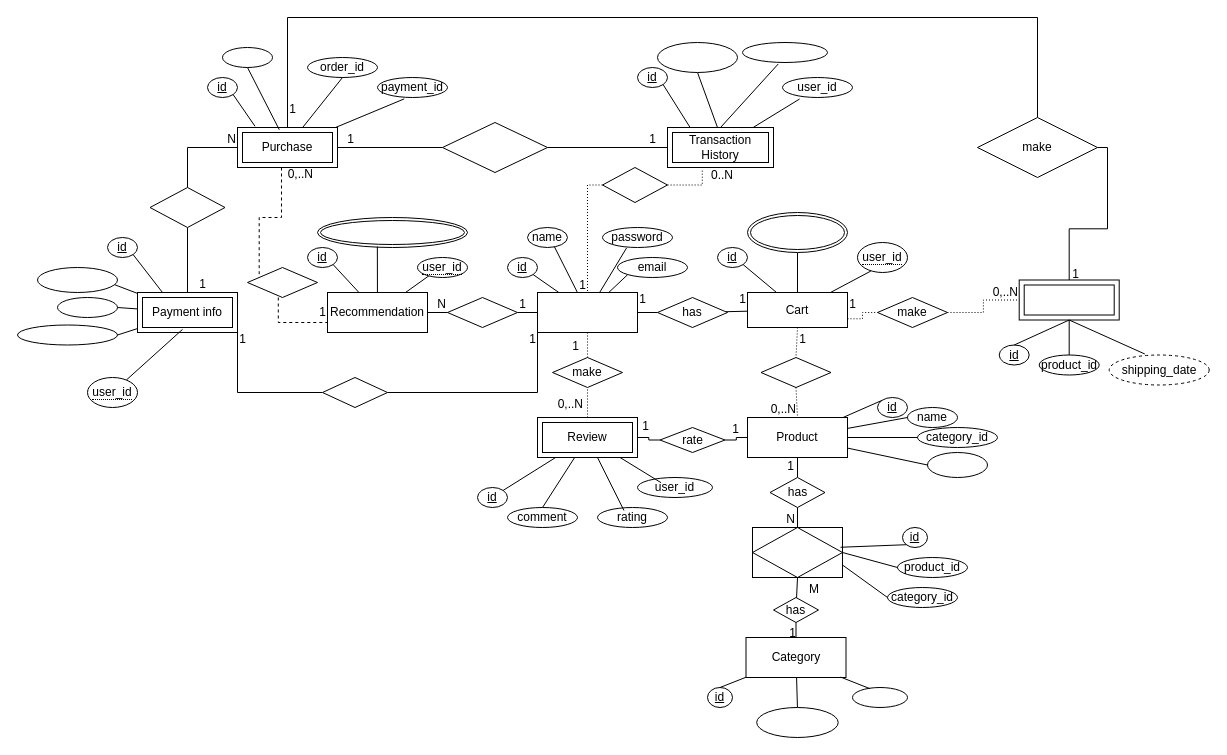
This 1227x755 diagram has some shape labels left out. The centre of each missing label's shape, as x and y in pixels:
"add info" belongs at point 187,207.
"card_number" belongs at point 77,279.
"check" belongs at point 635,184.
"cost" belongs at point 247,57.
"description" belongs at point 797,722.
"genre" belongs at point 880,697.
"guide" belongs at point 282,282.
"insert" belongs at point 355,392.
"Order" belongs at point 1068,299.
"order_date" belongs at point 785,52.
"Product Category" belongs at point 797,552.
"product_list" belongs at point 797,232.
"promote" belongs at point 482,312.
"purchase_id" belongs at point 697,57.
"recommend_product_list" belongs at point 392,232.
"review_id" belongs at point 957,465.
"save" belongs at point 495,147.
"security_number" belongs at point 67,334.
"take" belongs at point 795,372.
"User" belongs at point 587,312.
"valid_date" belongs at point 87,307.
